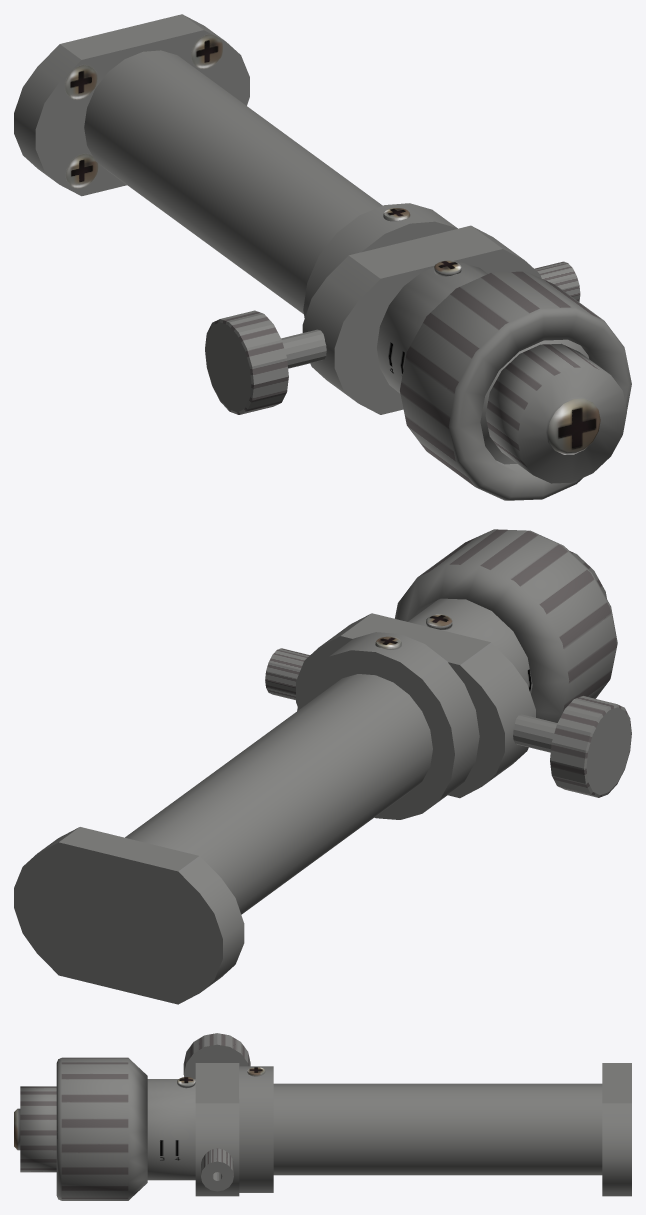
The model's file is 側桿低模.fbx.
The picture shows the model from 3 angles, top to bottom: view 1: azimuth 30°, elevation 25°; view 2: azimuth 150°, elevation 25°; view 3: azimuth 270°, elevation 25°; orthographic projection. The views are drawn at different scales.
Visible parts, largest first — view 1: 主幹, 大旋, 小旋, 圓柱體.001, 刻度, 圓柱體; view 2: 主幹, 大旋, 圓柱體.001, 刻度, 圓柱體; view 3: 主幹, 大旋, 刻度, 小旋, 圓柱體.001, 圓柱體.
Part boxes in pixels (x1=…): 主幹: x1=14, y1=14, x2=541, y2=414; 大旋: x1=400, y1=271, x2=631, y2=500; 小旋: x1=485, y1=343, x2=626, y2=483; 圓柱體.001: x1=205, y1=310, x2=326, y2=414; 刻度: x1=377, y1=260, x2=588, y2=464; 圓柱體: x1=534, y1=261, x2=580, y2=301; 主幹: x1=14, y1=613, x2=535, y2=1004; 大旋: x1=395, y1=529, x2=617, y2=722; 圓柱體.001: x1=513, y1=696, x2=631, y2=797; 刻度: x1=408, y1=598, x2=532, y2=693; 圓柱體: x1=265, y1=648, x2=309, y2=700; 主幹: x1=195, y1=1063, x2=631, y2=1196; 大旋: x1=56, y1=1057, x2=147, y2=1200; 刻度: x1=147, y1=1077, x2=195, y2=1180; 小旋: x1=14, y1=1086, x2=56, y2=1172; 圓柱體.001: x1=183, y1=1033, x2=250, y2=1078; 圓柱體: x1=201, y1=1148, x2=233, y2=1191.
Size of the model in its own units: 5.79 by 3.11 by 13.41.
4 materials, 4 textured.
